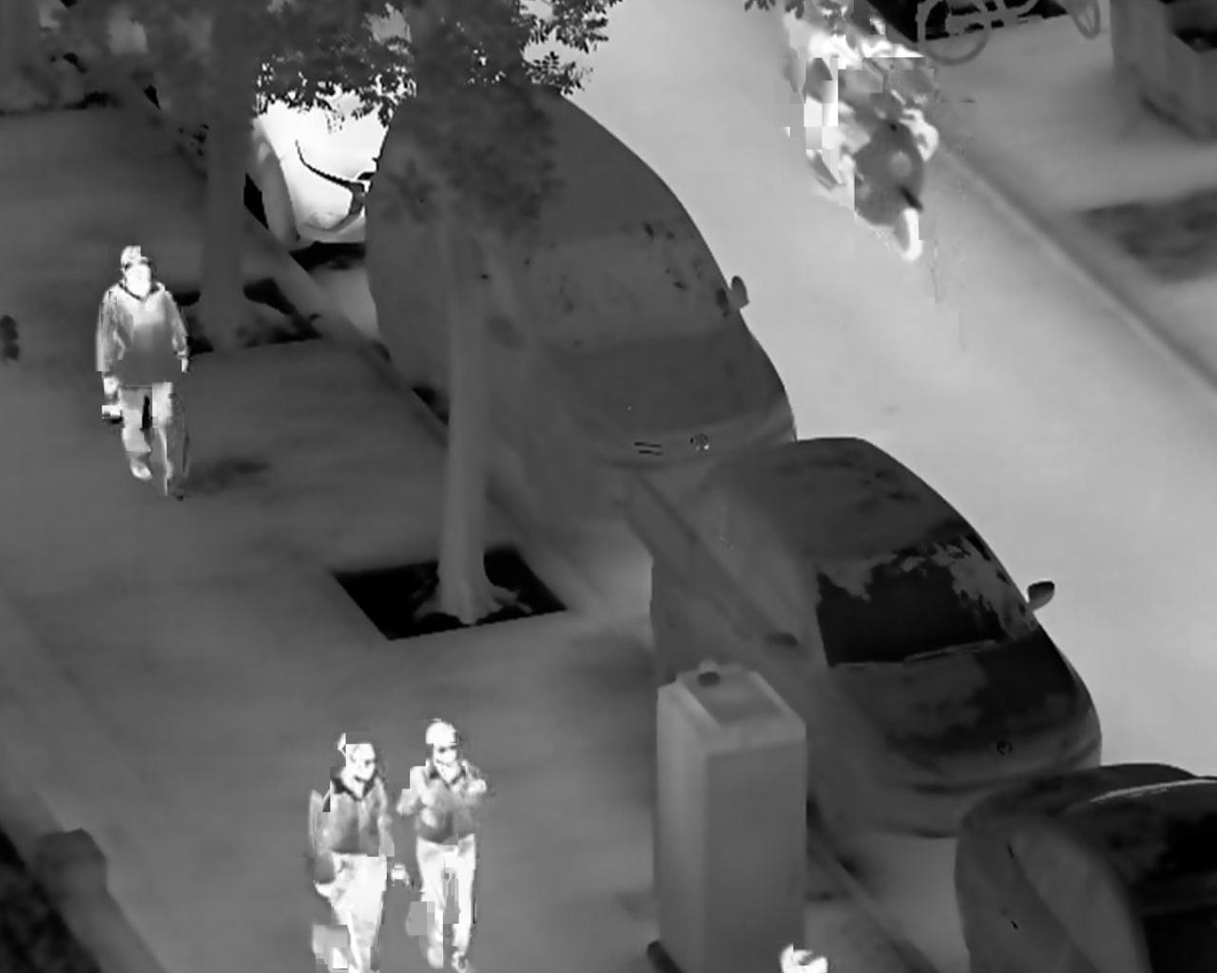person: (93, 242, 197, 501), (805, 2, 941, 197), (309, 729, 414, 973), (396, 717, 493, 973)
